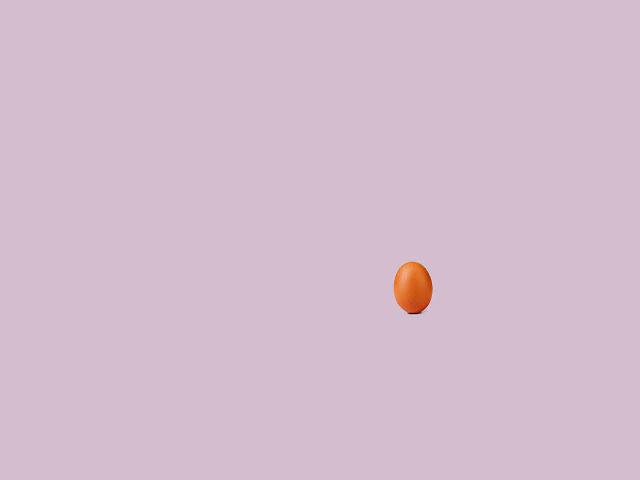egg: (394, 261, 432, 314)
